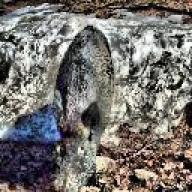boar: (50, 22, 116, 192)
